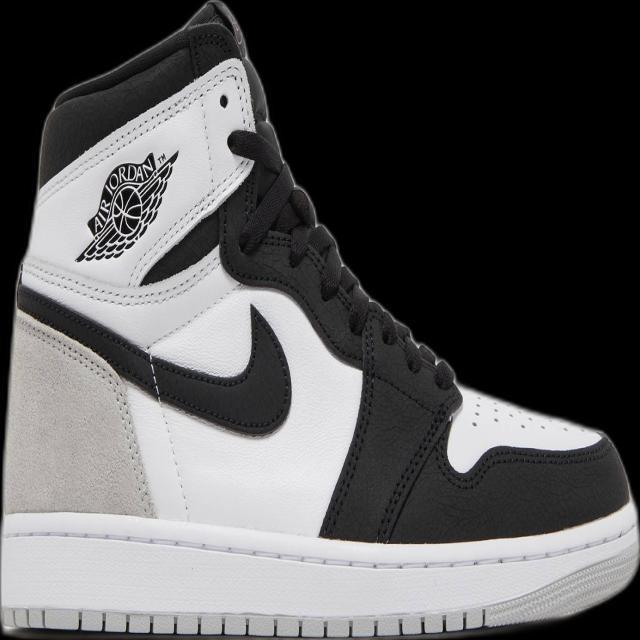J1_InsoleChar: (1, 1, 637, 637)
J1_ShoeLogo: (73, 149, 179, 263)
J1_StitchPattern: (223, 118, 611, 481), (2, 512, 637, 634), (225, 120, 458, 399), (4, 520, 638, 573), (14, 307, 159, 518), (36, 56, 254, 194), (2, 605, 490, 637), (374, 395, 462, 543), (140, 349, 194, 521), (368, 300, 457, 393), (464, 388, 601, 442)
